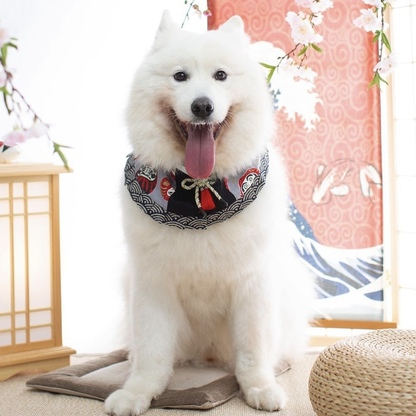samoyed: (95, 4, 318, 416)
